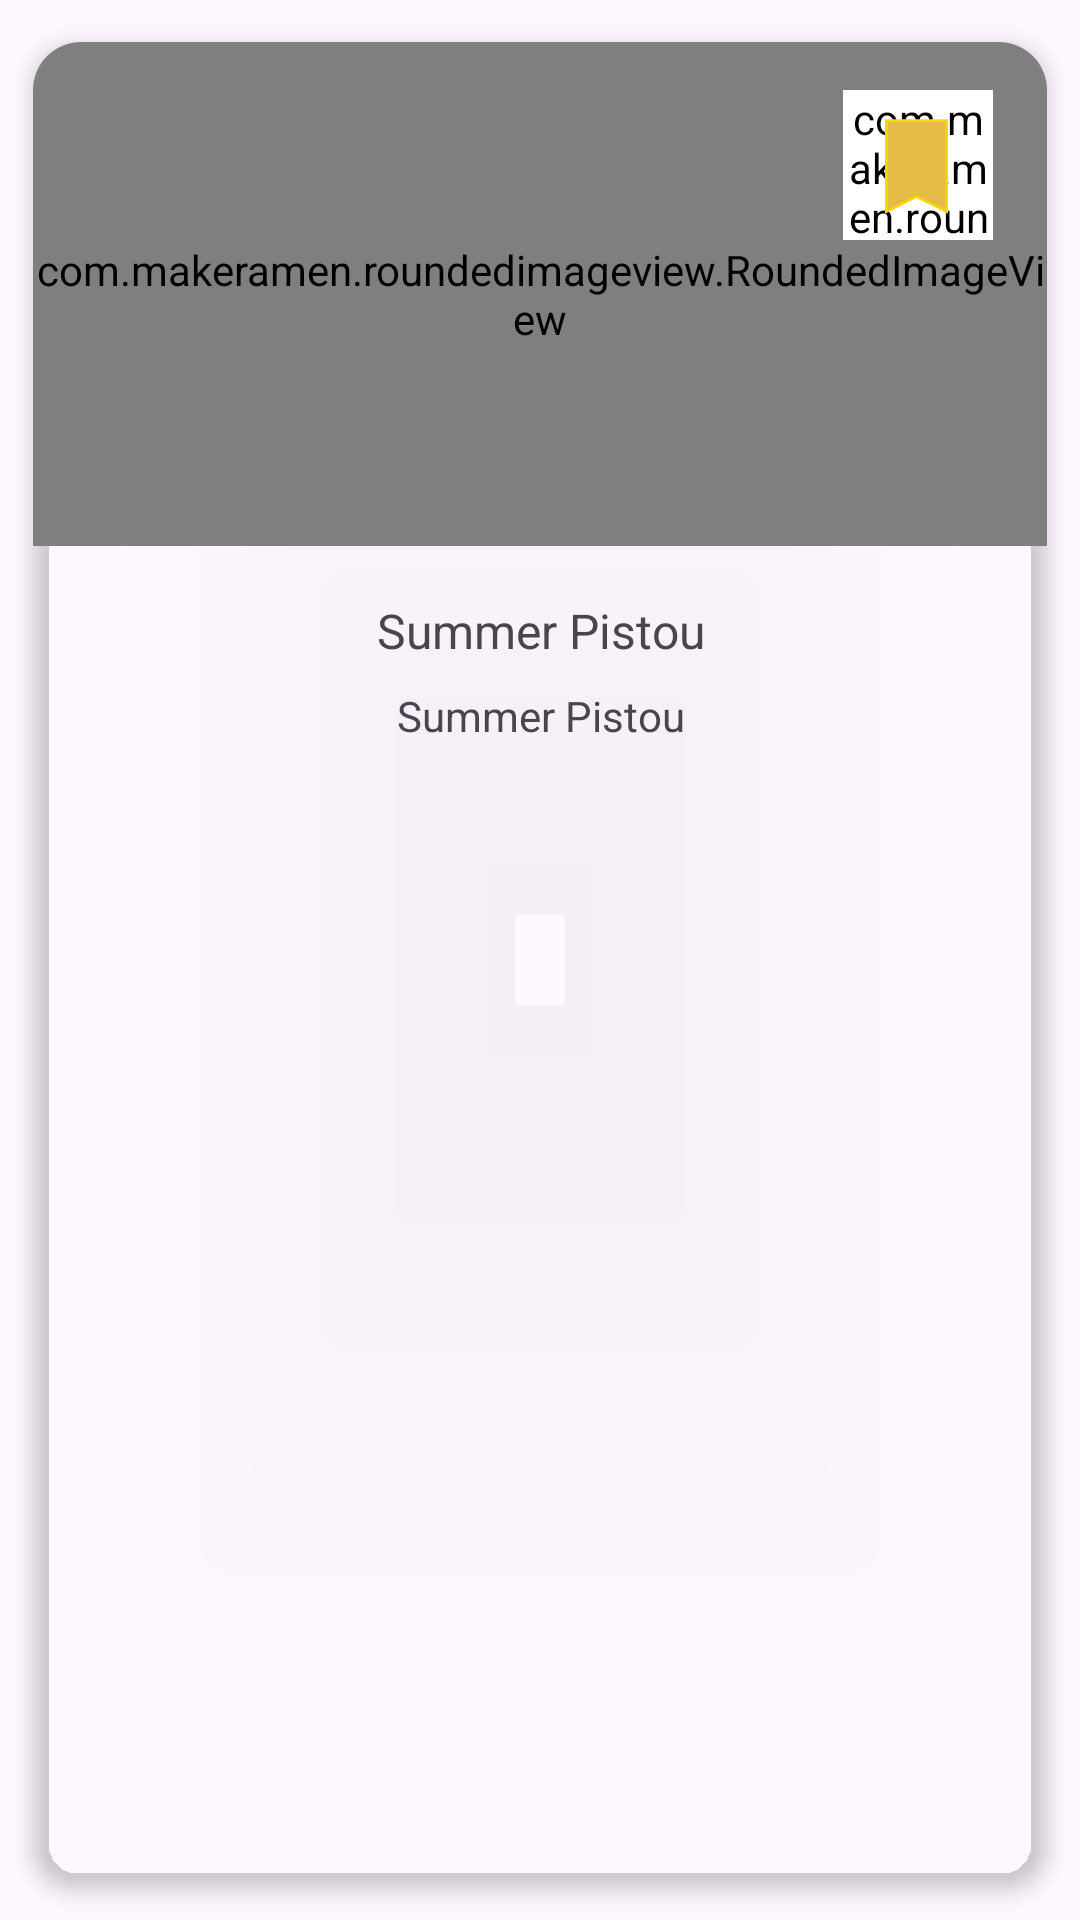

Locate icon controls on the screen. Image size 1080px×1920px, boxes as (x1, y1, x2, y2).
saveicon: (864, 114, 969, 219)
